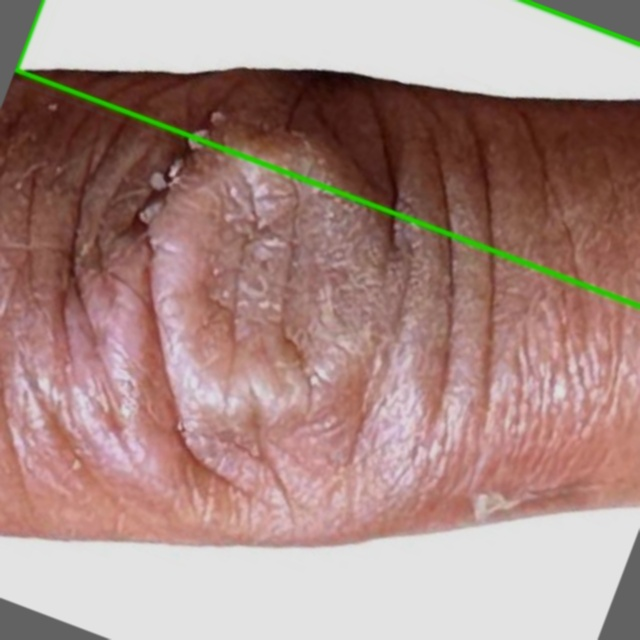Contact Dermatitis: (16, 0, 639, 304)
